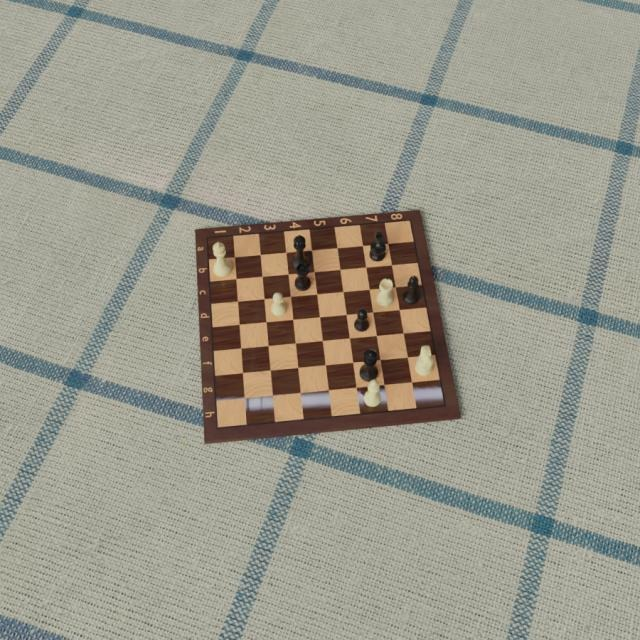black-bishop: (402, 275, 419, 305)
black-king: (289, 234, 310, 269)
black-knight: (369, 229, 387, 262)
black-pawn: (353, 308, 371, 333)
black-queen: (360, 348, 380, 383)
black-rook: (294, 263, 311, 294)
white-bishop: (364, 378, 382, 408)
white-king: (212, 241, 232, 279)
white-knight: (413, 343, 435, 376)
white-pawn: (271, 290, 287, 317)
white-rook: (377, 276, 395, 308)
